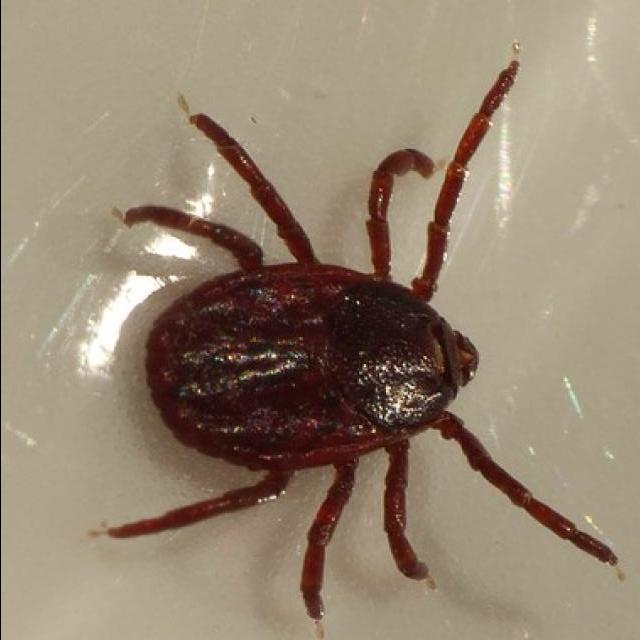Rhipicephalus Sanguineus-F: (101, 56, 616, 624)
